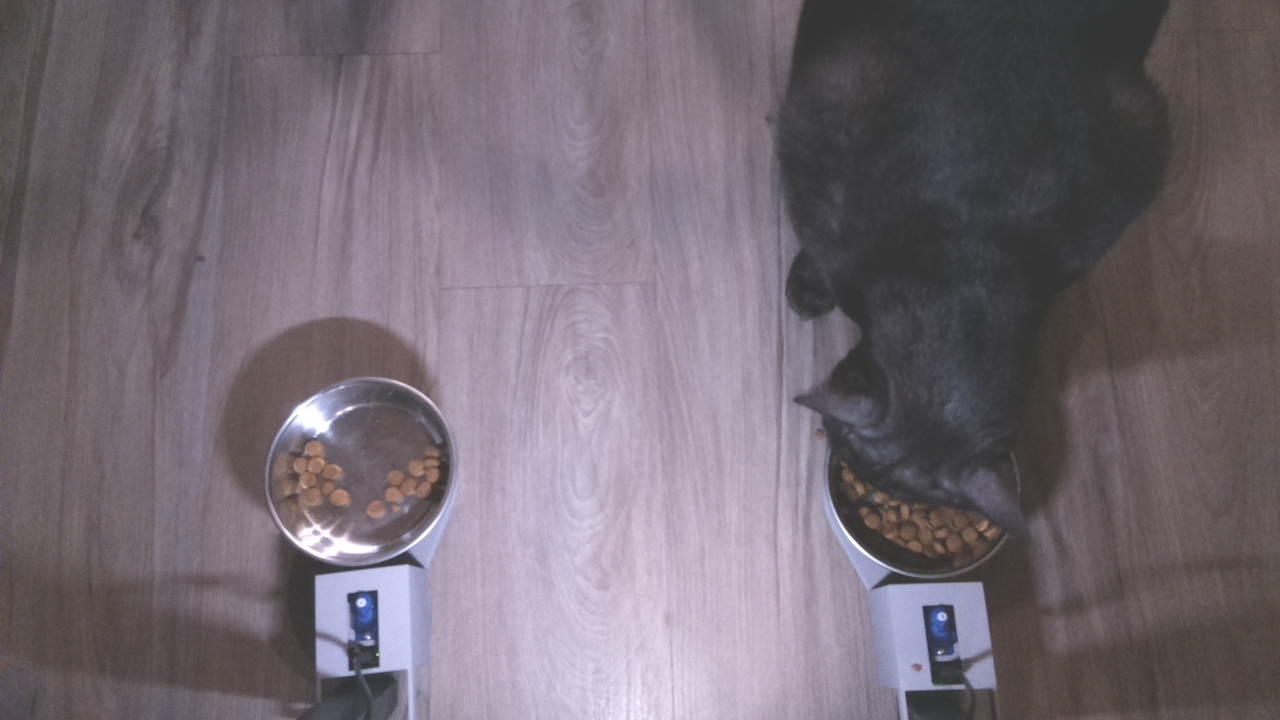open_bowl: (261, 373, 462, 572)
saki_eating: (782, 286, 1069, 591)
